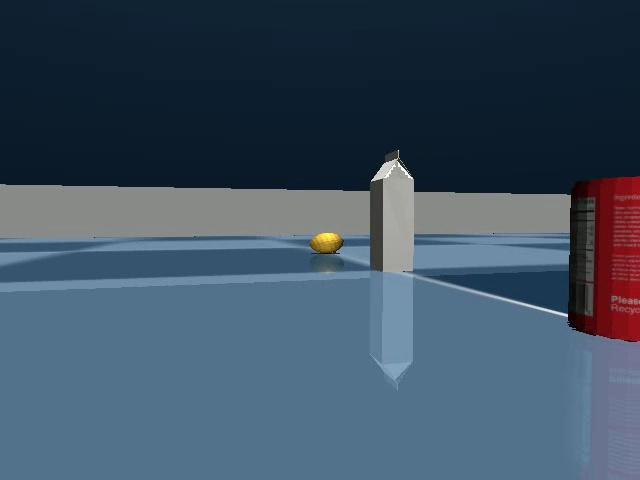can: (561, 165, 640, 352)
lemon: (305, 228, 347, 259)
milk: (365, 145, 426, 280)
